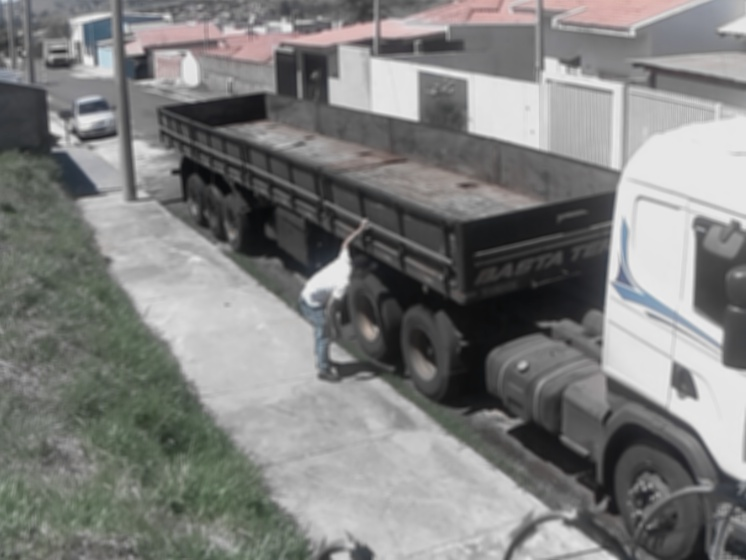person: (297, 216, 371, 386)
